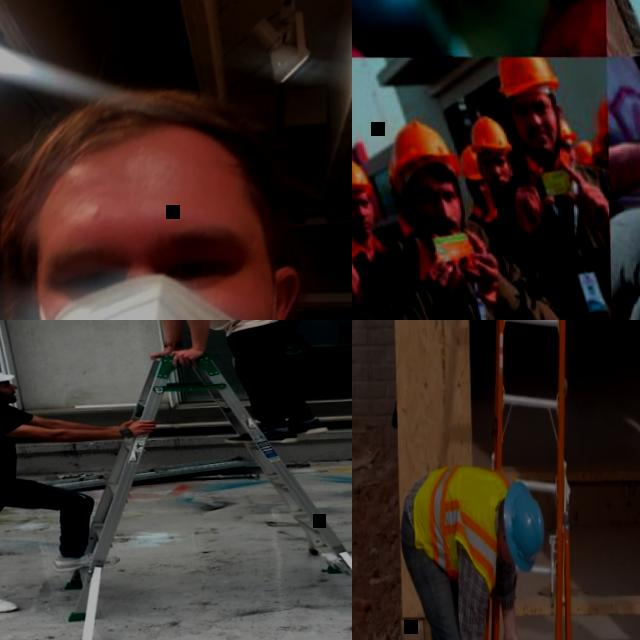Hardhat: (388, 117, 458, 178), (502, 479, 545, 571), (490, 52, 559, 96), (470, 114, 518, 151), (457, 148, 484, 181), (352, 158, 376, 194), (594, 97, 610, 139), (572, 138, 598, 161), (560, 118, 572, 145)
Mask: (37, 271, 282, 320)
NO-Hardhat: (30, 85, 284, 233)
NO-Mask: (517, 123, 556, 156), (418, 212, 460, 239), (352, 213, 373, 234), (488, 173, 510, 190), (0, 386, 17, 402), (473, 193, 490, 206), (500, 545, 509, 565)
NO-Safety Vest: (522, 159, 610, 320), (415, 251, 553, 320), (606, 66, 640, 202), (352, 241, 401, 320), (352, 0, 429, 38), (0, 402, 28, 487), (472, 204, 499, 244)
Person: (0, 77, 352, 320), (0, 356, 159, 614), (394, 110, 576, 320), (86, 320, 331, 446), (397, 460, 545, 640), (511, 51, 608, 320), (352, 53, 424, 320), (352, 158, 416, 317), (461, 150, 504, 244), (474, 113, 513, 204), (386, 161, 414, 240), (588, 97, 606, 175), (574, 134, 592, 170)
Safety Vest: (412, 462, 508, 595)
